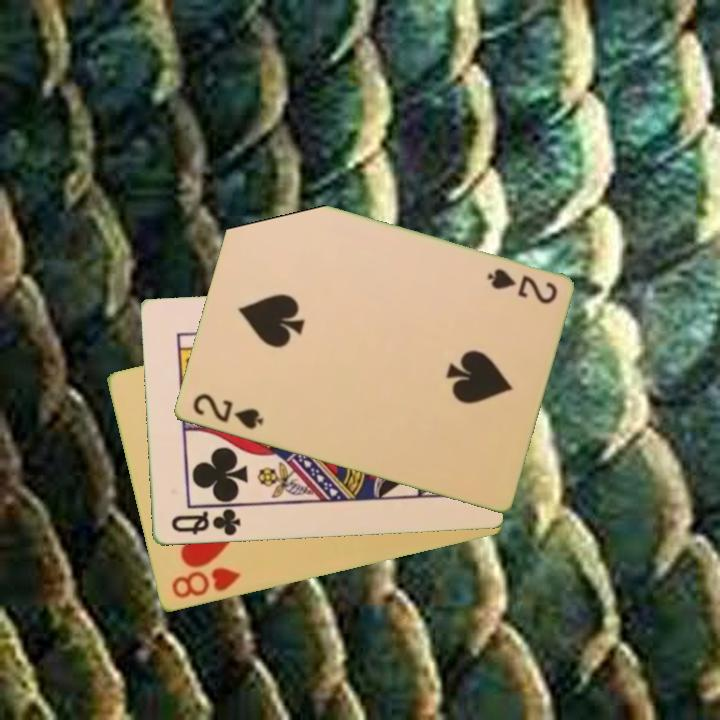2s: (189, 390, 266, 433), (483, 265, 560, 308)
8h: (167, 564, 243, 602)
Qc: (167, 505, 243, 539)
